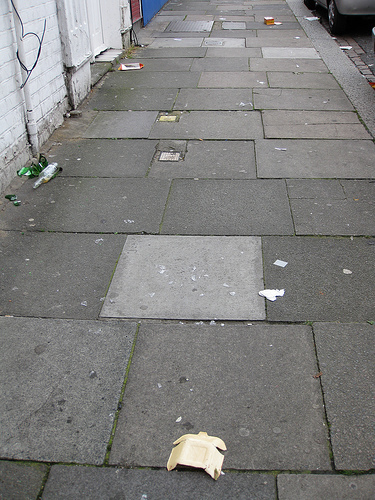litter: (165, 431, 226, 480), (17, 156, 62, 189), (256, 287, 285, 302), (116, 62, 144, 71), (4, 192, 21, 206), (260, 16, 281, 26), (272, 257, 287, 267), (303, 15, 320, 21), (337, 43, 353, 49)
